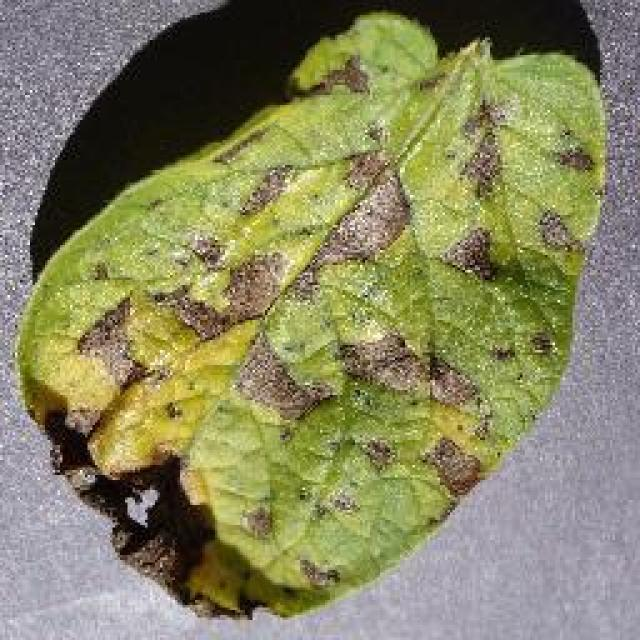Potato___Early_blight: (12, 4, 611, 629)
